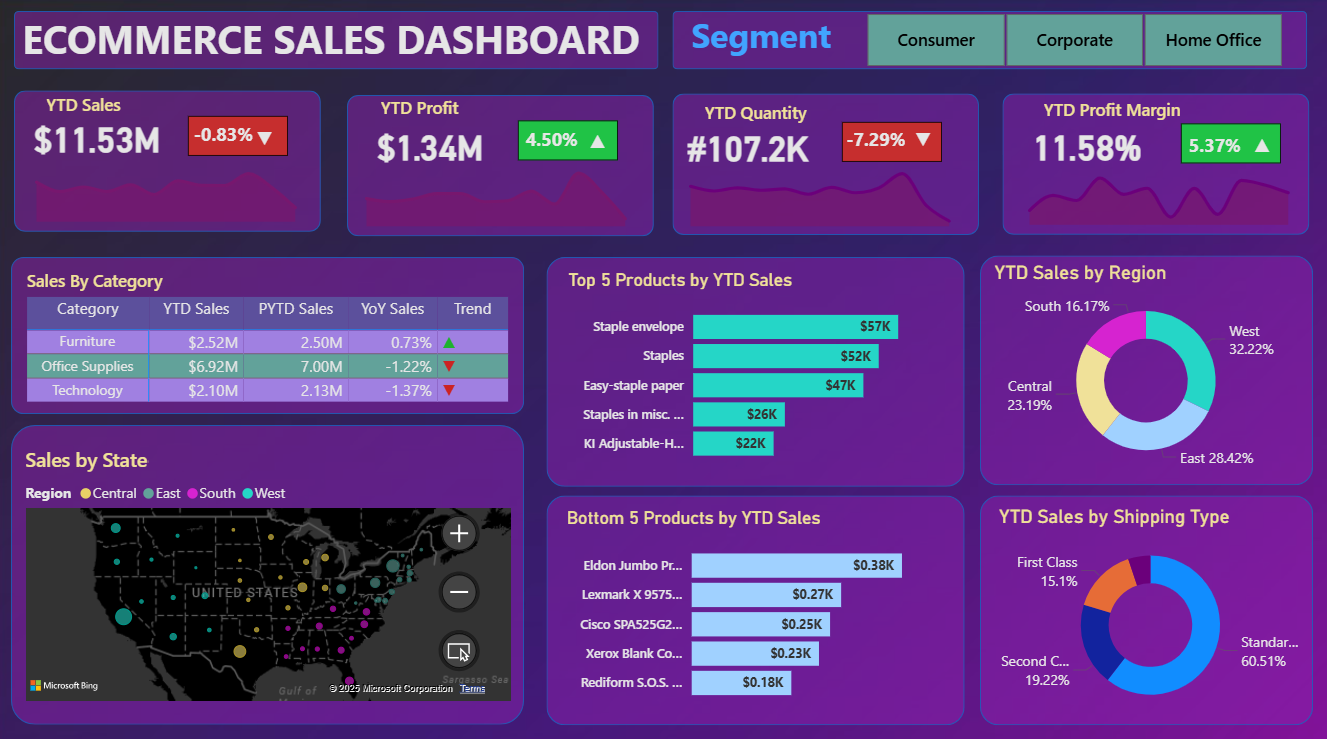

Layout of this report page (visuals, bound fields, positions):
{"tool":"powerbi","page":{"name":"Page 1","canvas":[1280,720],"ordinal":0},"visuals":[{"type":"shape","box":[22.3,14.3,615.6,55.7],"z":0},{"type":"textbox","box":[25.4,9.5,614,60.4],"z":1000},{"type":"shape","box":[22.3,90.7,293,135],"z":2000},{"type":"card","fields":{"Values":["ecommerce_data.YTD Sales"]},"box":[14.3,103.4,175,63.6],"z":3000},{"type":"areaChart","fields":{"Category":["Calendar.Month"],"Y":["Sum(ecommerce_data.sales_per_order)"]},"box":[30.2,147.9,275.2,73.2],"z":4000},{"type":"shape","box":[189.3,114.5,95.4,38.2],"z":5000},{"type":"card","fields":{"Values":["ecommerce_data.YoY Sales"]},"box":[189.3,113.2,66.8,41.4],"z":6000},{"type":"card","fields":{"Values":["ecommerce_data.Sales Icon"]},"box":[237,121.2,50.9,30.2],"z":7000},{"type":"textbox","box":[49.3,87.5,105,36.6],"z":8000},{"type":"shape","box":[340.9,93.8,293,135],"z":9000},{"type":"card","fields":{"Values":["ecommerce_data.YTD Profit"]},"box":[333,109.8,175,63.6],"z":10000},{"type":"areaChart","fields":{"Category":["Calendar.Month"],"Y":["Sum(ecommerce_data.profit_per_order)"]},"box":[344.7,152.9,275.2,71.6],"z":11000},{"type":"shape","box":[503.8,119.3,95.4,38.2],"z":12000},{"type":"card","fields":{"Values":["ecommerce_data.YoY Profit"]},"box":[502.2,118,66.8,41.4],"z":13000},{"type":"card","fields":{"Values":["ecommerce_data.Profit Icon"]},"box":[554.7,124.4,50.9,30.2],"z":14000},{"type":"textbox","box":[367.9,90.7,105,36.6],"z":15000},{"type":"shape","box":[652,93.2,292.7,135.2],"z":16000},{"type":"areaChart","fields":{"Category":["Calendar.Month"],"Y":["Sum(ecommerce_data.order_quantity)"]},"box":[654.6,153.5,275.2,71.6],"z":17000},{"type":"shape","box":[813.7,119.9,95.4,38.2],"z":18000},{"type":"card","fields":{"Values":["ecommerce_data.YoY Quantities"]},"box":[812.1,117.4,66.8,41.4],"z":19000},{"type":"card","fields":{"Values":["ecommerce_data.Quantity Icon"]},"box":[864.6,123.8,50.9,30.2],"z":20000},{"type":"textbox","box":[677.2,94.1,120.9,33.4],"z":21000},{"type":"card","fields":{"Values":["ecommerce_data.YTD Concatenated Quantity"]},"box":[635.5,112,175,63.6],"z":22000},{"type":"shape","box":[966.8,92.7,293,135],"z":23000},{"type":"areaChart","fields":{"Category":["Calendar.Month"],"Y":["ecommerce_data.Profit Margin"]},"box":[978.4,151.7,275.2,71.6],"z":24000},{"type":"shape","box":[1137.5,121.5,95.4,38.2],"z":25000},{"type":"card","fields":{"Values":["ecommerce_data.YoY Profit Margin"]},"box":[1135.9,123.1,66.8,41.4],"z":26000},{"type":"card","fields":{"Values":["ecommerce_data.Profit Margin Icon"]},"box":[1188.4,129.4,50.9,30.2],"z":27000},{"type":"textbox","box":[1001.6,92.2,151.1,36.6],"z":28000},{"type":"card","fields":{"Values":["ecommerce_data.YTD Profit Margin"]},"box":[959.3,110.2,175,63.6],"z":29000},{"type":"shape","box":[20.7,249.7,490,150],"z":30000},{"type":"pivotTable","title":"Sales By Category","fields":{"Rows":["ecommerce_data.category_name"],"Values":["ecommerce_data.YTD Sales","ecommerce_data.PYTD Sales","ecommerce_data.YoY Sales","ecommerce_data.Sales Icon"]},"box":[30.2,260.9,475.6,138.4],"z":31000},{"type":"shape","box":[20.7,410.4,489.9,286.3],"z":32000},{"type":"map","title":"Sales by State","fields":{"Series":["ecommerce_data.customer_region"],"Size":["ecommerce_data.YTD Sales"],"Y":["us_state_long_lat_codes.latitude"],"X":["us_state_long_lat_codes.longitude"]},"box":[28.6,429.5,474,248.1],"z":33000},{"type":"shape","box":[531.5,477.2,399.2,219.5],"z":34000},{"type":"shape","box":[531.5,249.7,399.2,219.5],"z":35000},{"type":"barChart","title":"Top 5 Products by YTD Sales","fields":{"Category":["ecommerce_data.product_name"],"Y":["ecommerce_data.YTD Sales"]},"box":[547.6,260.8,370.4,194.6],"z":36000},{"type":"barChart","title":"Bottom 5 Products by YTD Sales","fields":{"Category":["ecommerce_data.product_name"],"Y":["ecommerce_data.YTD Sales"]},"box":[545.8,488.3,370.6,195.6],"z":37000},{"type":"shape","box":[945.1,248.1,318.1,219.5],"z":38000},{"type":"shape","box":[945.1,477.2,318.1,219.5],"z":39000},{"type":"donutChart","title":"YTD Sales by Region","fields":{"Category":["ecommerce_data.customer_region"],"Y":["ecommerce_data.YTD Sales"]},"box":[954.6,252.9,299,206.8],"z":40000},{"type":"donutChart","title":"YTD Sales by Shipping Type","fields":{"Y":["ecommerce_data.YTD Sales"],"Category":["ecommerce_data.shipping_type"]},"box":[957.8,486.7,299,206.8],"z":41000},{"type":"shape","box":[652.2,14.3,606,55.7],"z":42000},{"type":"slicer","fields":{"Values":["ecommerce_data.customer_segment"]},"box":[811.6,9.5,445.4,63.6],"z":43000},{"type":"textbox","box":[664.9,9.5,190.9,60.4],"z":44000}]}

Visuals, with their boxes in screenshot pixels (x1, y1, x2, y2), scaled from the page's 1280x720 canvas onto the 1327x739 screenshot:
shape: 23, 15, 661, 72
textbox: 26, 10, 663, 72
shape: 23, 93, 327, 232
card - ecommerce_data.YTD Sales: 15, 106, 196, 171
areaChart - Calendar.Month x Sum(ecommerce_data.sales_per_order): 31, 152, 317, 227
shape: 196, 118, 295, 157
card - ecommerce_data.YoY Sales: 196, 116, 266, 159
card - ecommerce_data.Sales Icon: 246, 124, 298, 155
textbox: 51, 90, 160, 127
shape: 353, 96, 657, 235
card - ecommerce_data.YTD Profit: 345, 113, 527, 178
areaChart - Calendar.Month x Sum(ecommerce_data.profit_per_order): 357, 157, 643, 230
shape: 522, 122, 621, 162
card - ecommerce_data.YoY Profit: 521, 121, 590, 164
card - ecommerce_data.Profit Icon: 575, 128, 628, 159
textbox: 381, 93, 490, 131
shape: 676, 96, 979, 234
areaChart - Calendar.Month x Sum(ecommerce_data.order_quantity): 679, 158, 964, 231
shape: 844, 123, 942, 162
card - ecommerce_data.YoY Quantities: 842, 120, 911, 163
card - ecommerce_data.Quantity Icon: 896, 127, 949, 158
textbox: 702, 97, 827, 131
card - ecommerce_data.YTD Concatenated Quantity: 659, 115, 840, 180
shape: 1002, 95, 1306, 234
areaChart - Calendar.Month x ecommerce_data.Profit Margin: 1014, 156, 1300, 229
shape: 1179, 125, 1278, 164
card - ecommerce_data.YoY Profit Margin: 1178, 126, 1247, 169
card - ecommerce_data.Profit Margin Icon: 1232, 133, 1285, 164
textbox: 1038, 95, 1195, 132
card - ecommerce_data.YTD Profit Margin: 995, 113, 1176, 178
shape: 21, 256, 529, 410
"Sales By Category" pivotTable: 31, 268, 524, 410
shape: 21, 421, 529, 715
"Sales by State" map: 30, 441, 521, 695
shape: 551, 490, 965, 715
shape: 551, 256, 965, 482
"Top 5 Products by YTD Sales" barChart: 568, 268, 952, 467
"Bottom 5 Products by YTD Sales" barChart: 566, 501, 950, 702
shape: 980, 255, 1310, 480
shape: 980, 490, 1310, 715
"YTD Sales by Region" donutChart: 990, 260, 1300, 472
"YTD Sales by Shipping Type" donutChart: 993, 500, 1303, 712
shape: 676, 15, 1304, 72
slicer - ecommerce_data.customer_segment: 841, 10, 1303, 75
textbox: 689, 10, 887, 72
